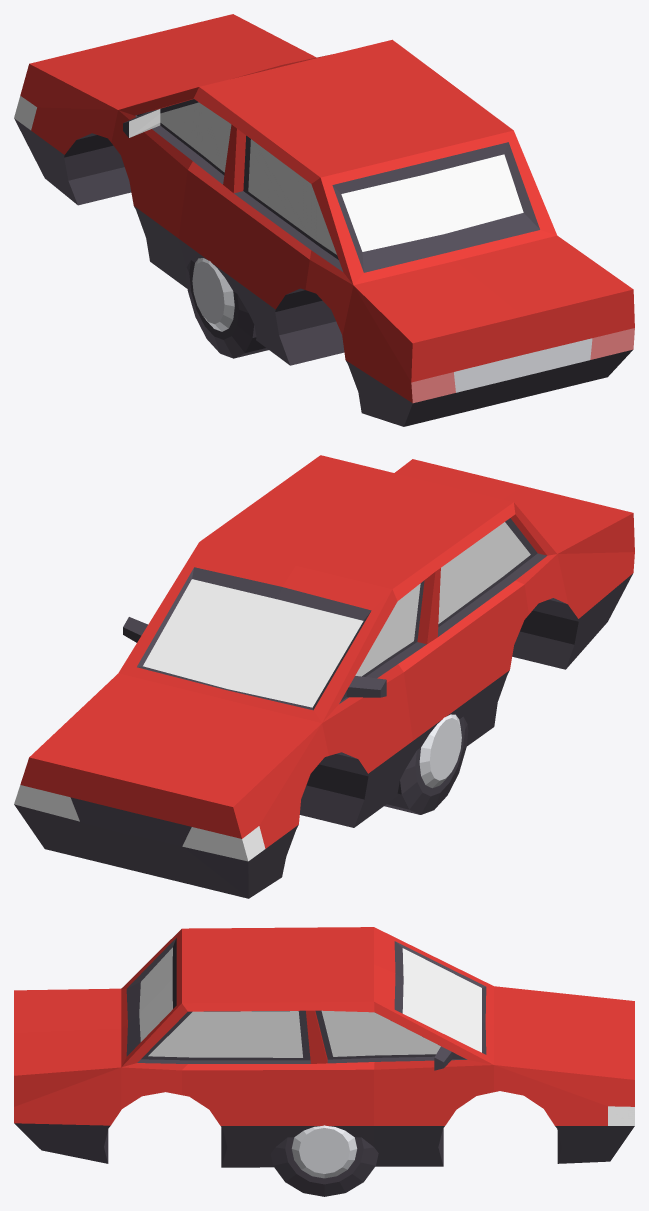
File: Car_01.fbx
The picture shows the model from 3 angles, top to bottom: view 1: azimuth 30°, elevation 25°; view 2: azimuth 150°, elevation 25°; view 3: azimuth 270°, elevation 25°; orthographic projection. The views are drawn at different scales.
Visible parts, largest first — view 1: Car, weels; view 2: Car, weels; view 3: Car, weels.
Part boxes in pixels (x1,y1,x2,y2): Car: (14, 14, 634, 426); weels: (186, 258, 268, 358); Car: (14, 455, 634, 898); weels: (384, 714, 468, 814); Car: (14, 927, 634, 1167); weels: (270, 1125, 378, 1196).
Bounding box in the file's own units: 133 × 119 × 350.
